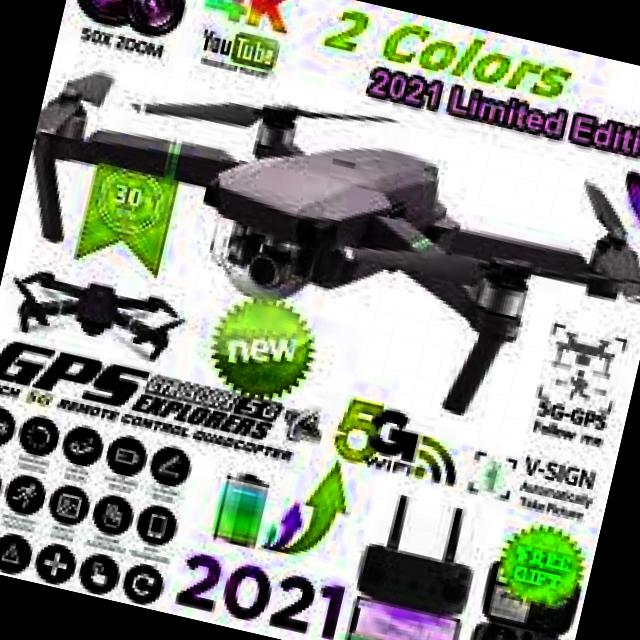drone: (0, 22, 640, 452), (0, 244, 199, 382)
